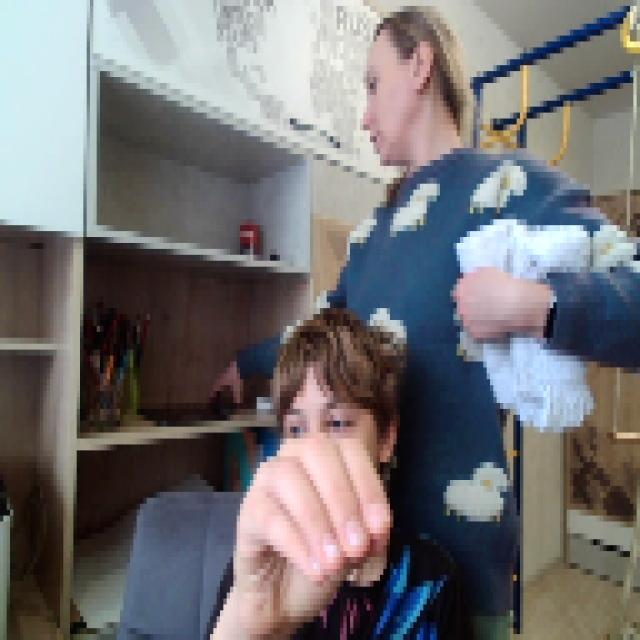left_click: (230, 421, 393, 622)
